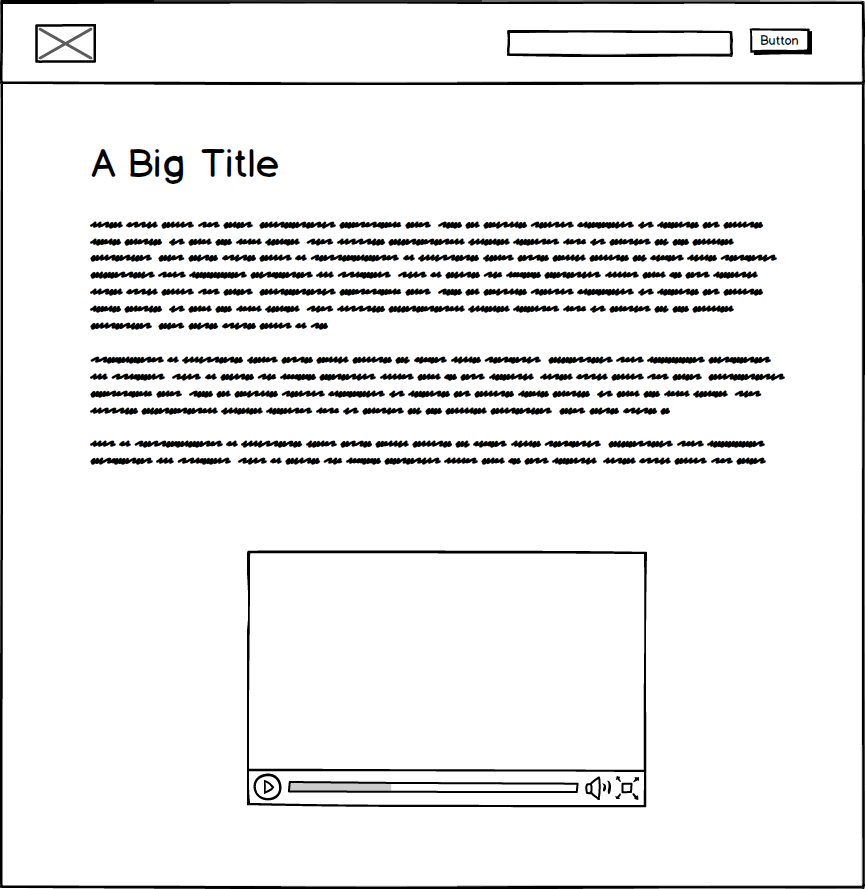button: (747, 24, 813, 58)
h1: (86, 142, 279, 189)
image: (30, 20, 101, 69)
input: (502, 25, 738, 63)
p: (84, 217, 795, 471)
video: (243, 547, 653, 811)
